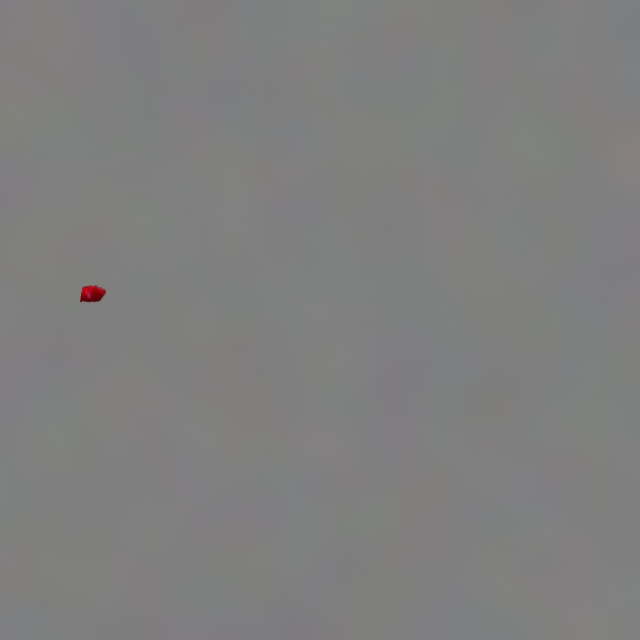rose: (80, 285, 105, 301)
